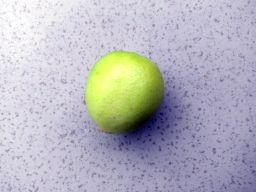lemon: (76, 43, 176, 133)
